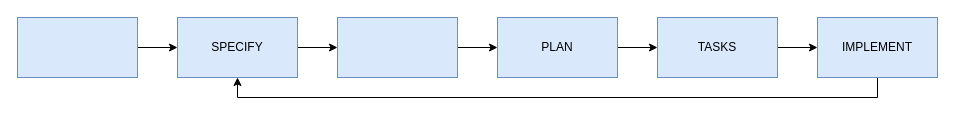
Image size: 955x123. Some labels were removed from this diagram. Each missing label, with the box of its shape:
CLARIFY: (336, 16, 458, 78)
CONSTITUTION: (16, 16, 138, 78)
